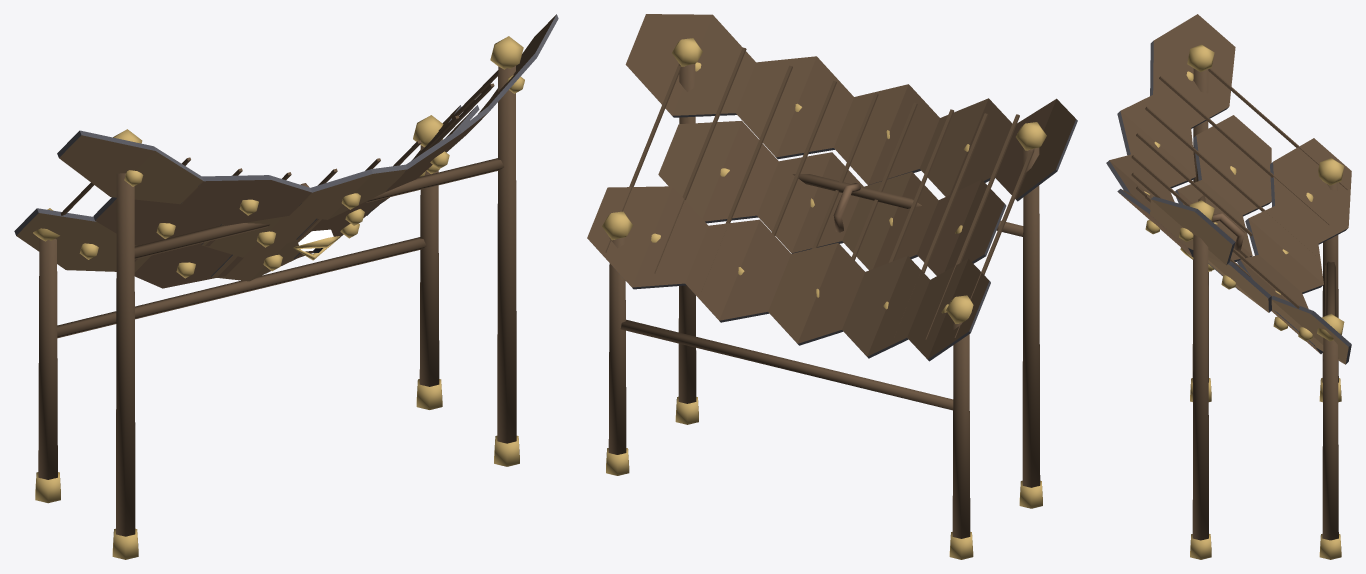
File: shield-roof-of-shields.glb
The picture shows the model from 3 angles, left to right: view 1: azimuth 30°, elevation 25°; view 2: azimuth 150°, elevation 25°; view 3: azimuth 270°, elevation 25°; orthographic projection. The views are drawn at different scales.
Visible parts, largest first — view 1: shield-roof-of-shields; view 2: shield-roof-of-shields; view 3: shield-roof-of-shields.
Boxes of the visible parts, left/top/right/bottom form: shield-roof-of-shields: left=14, top=14, right=558, bottom=559; shield-roof-of-shields: left=587, top=14, right=1077, bottom=559; shield-roof-of-shields: left=1106, top=14, right=1351, bottom=559.
Bounding box in the file's own units: 2.3 × 2.01 × 1.23.
